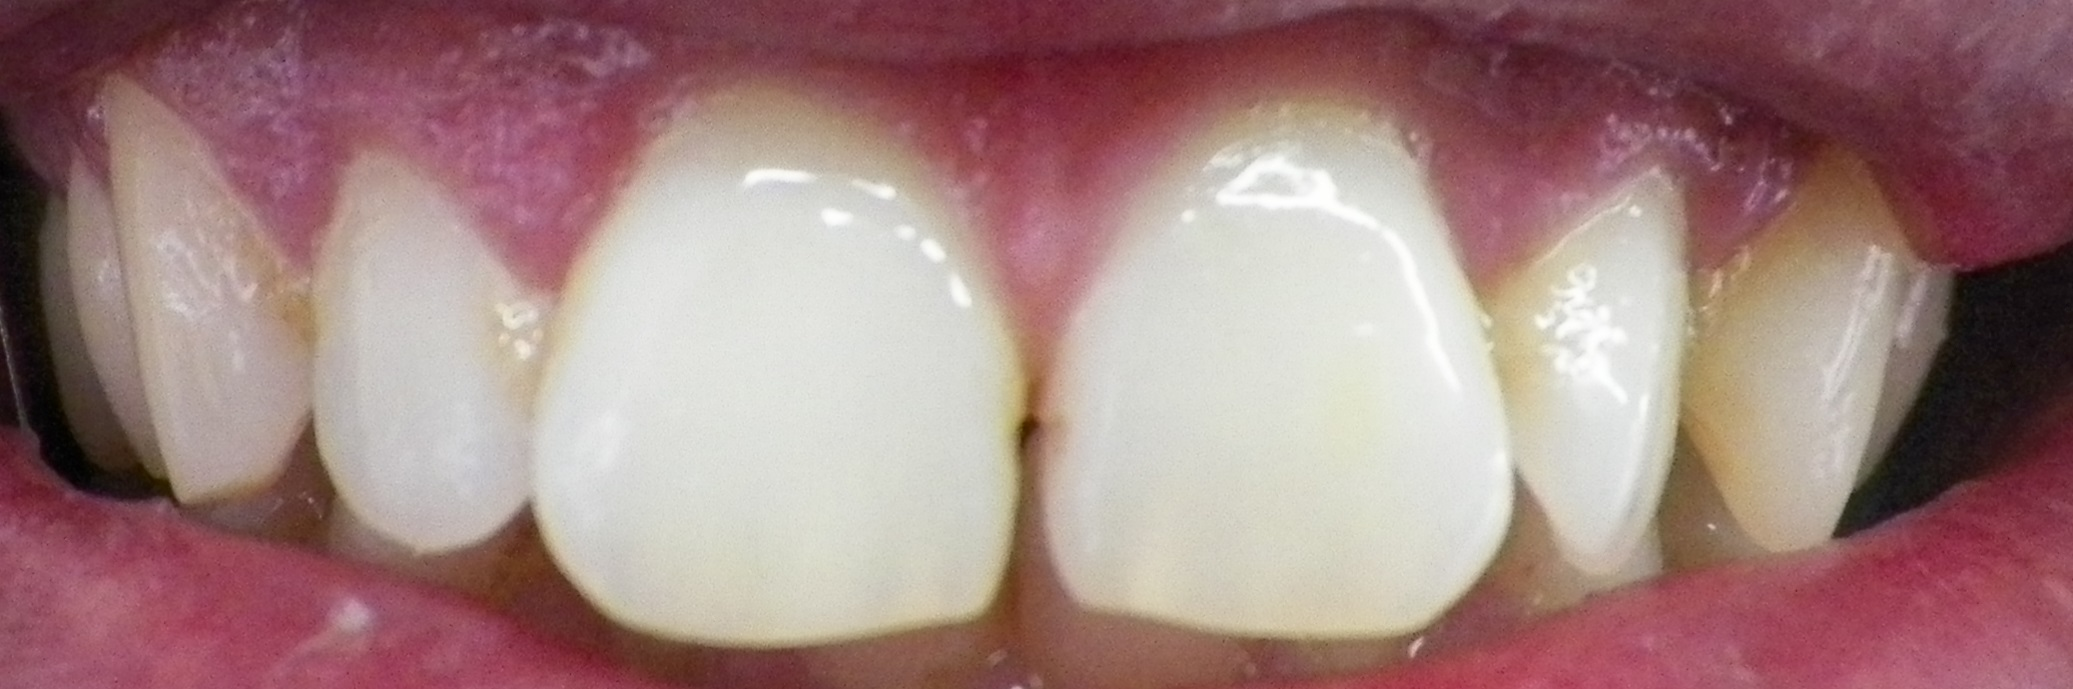boca: (48, 75, 2020, 644)
